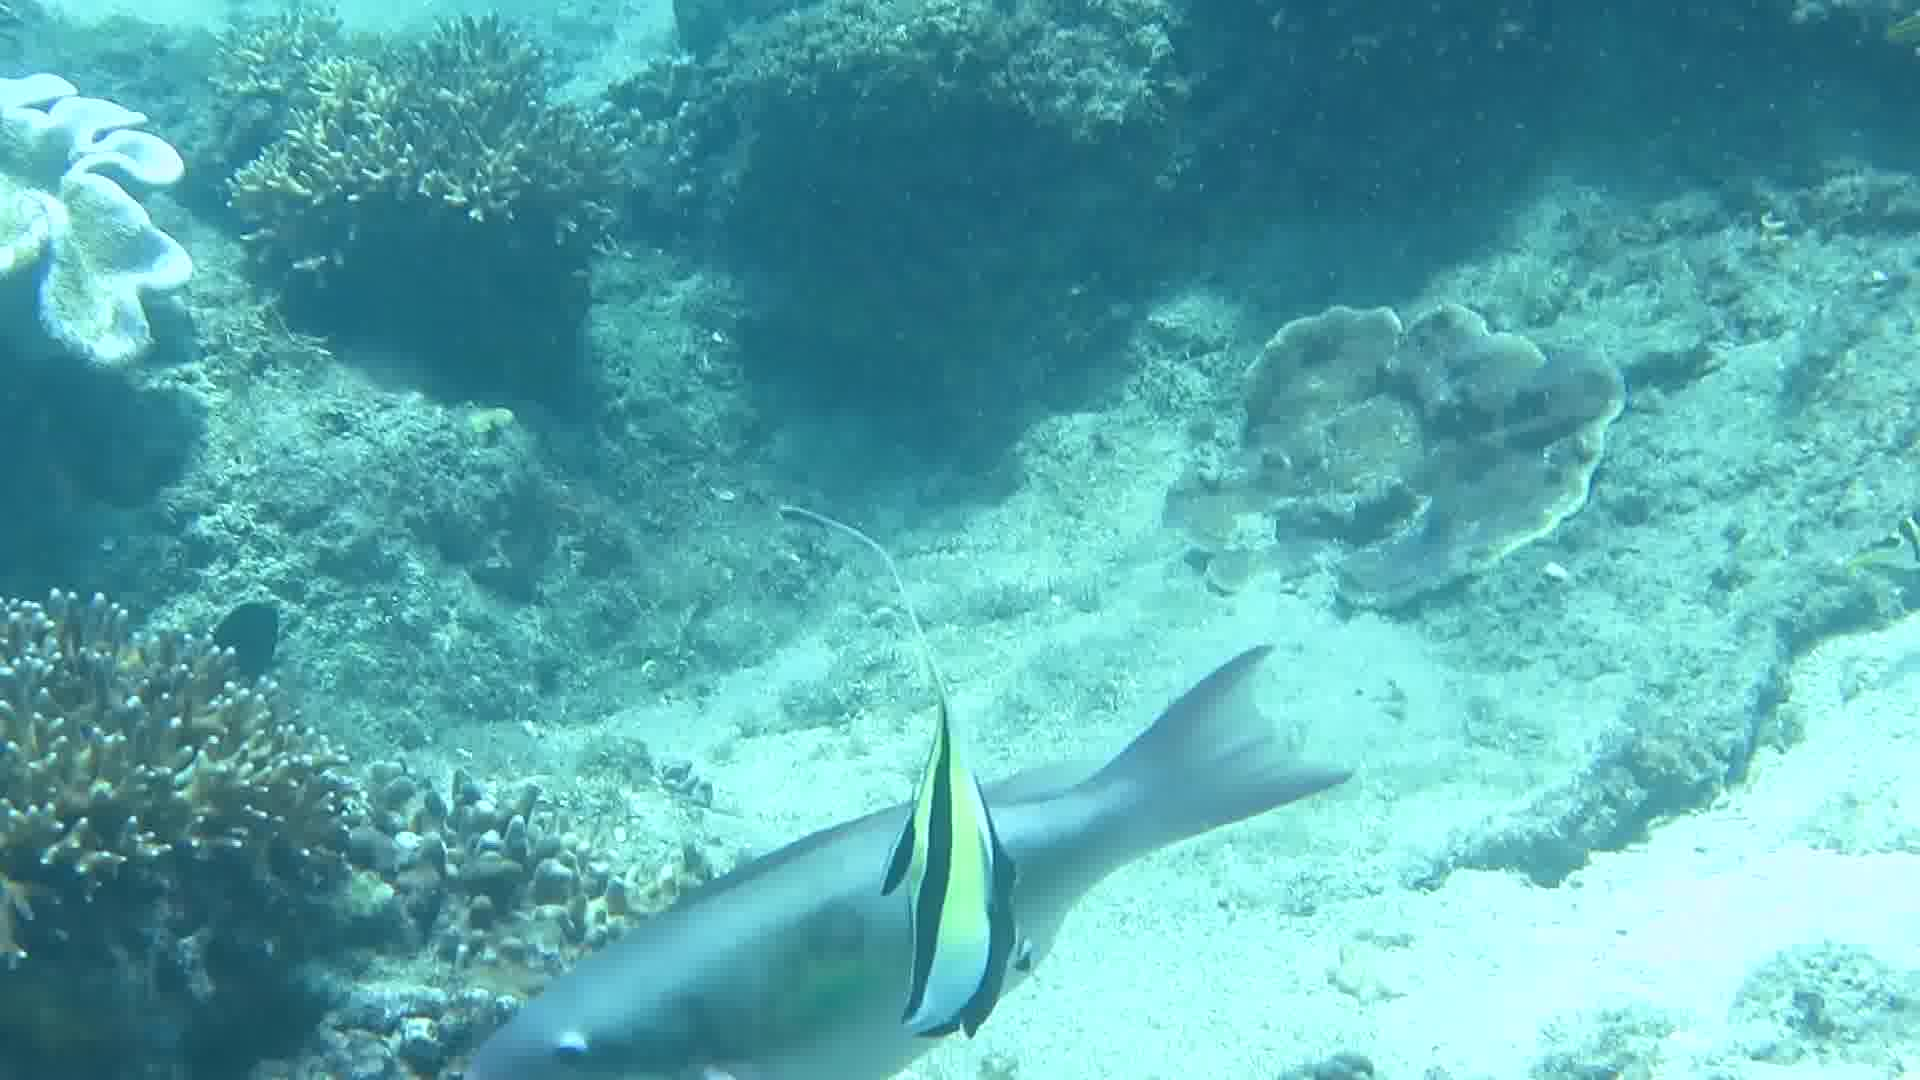Zanclus cornutus: (858, 769, 1052, 1039)
